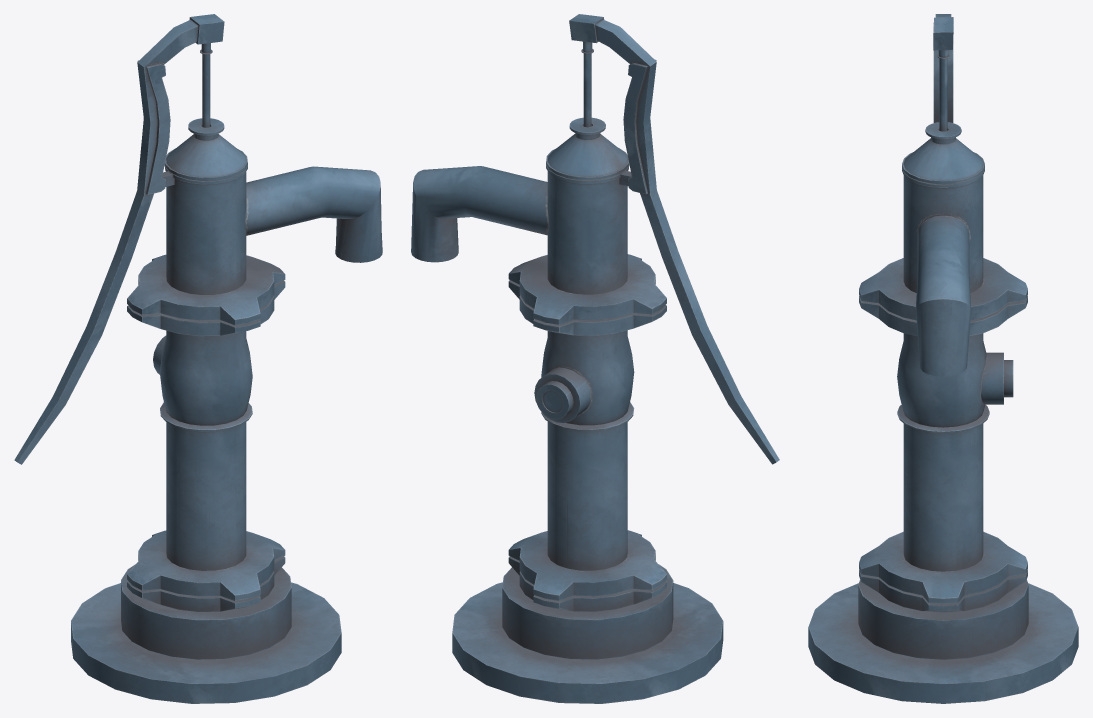
Rendered from Water Pump.obj.
3 views of the same model, side by side, from view 1: azimuth 30°, elevation 25°; view 2: azimuth 150°, elevation 25°; view 3: azimuth 270°, elevation 25° (orthographic).
Parts seen in each view (by area): view 1: pWaterPump_Blockout; view 2: pWaterPump_Blockout; view 3: pWaterPump_Blockout.
Boxes of the visible parts, box(x1,y1,x2,y2) form: pWaterPump_Blockout: box(14, 14, 382, 703); pWaterPump_Blockout: box(411, 14, 779, 703); pWaterPump_Blockout: box(808, 14, 1078, 703).
Bounding box in the file's own units: 0.7706 × 1.27 × 0.4997.
